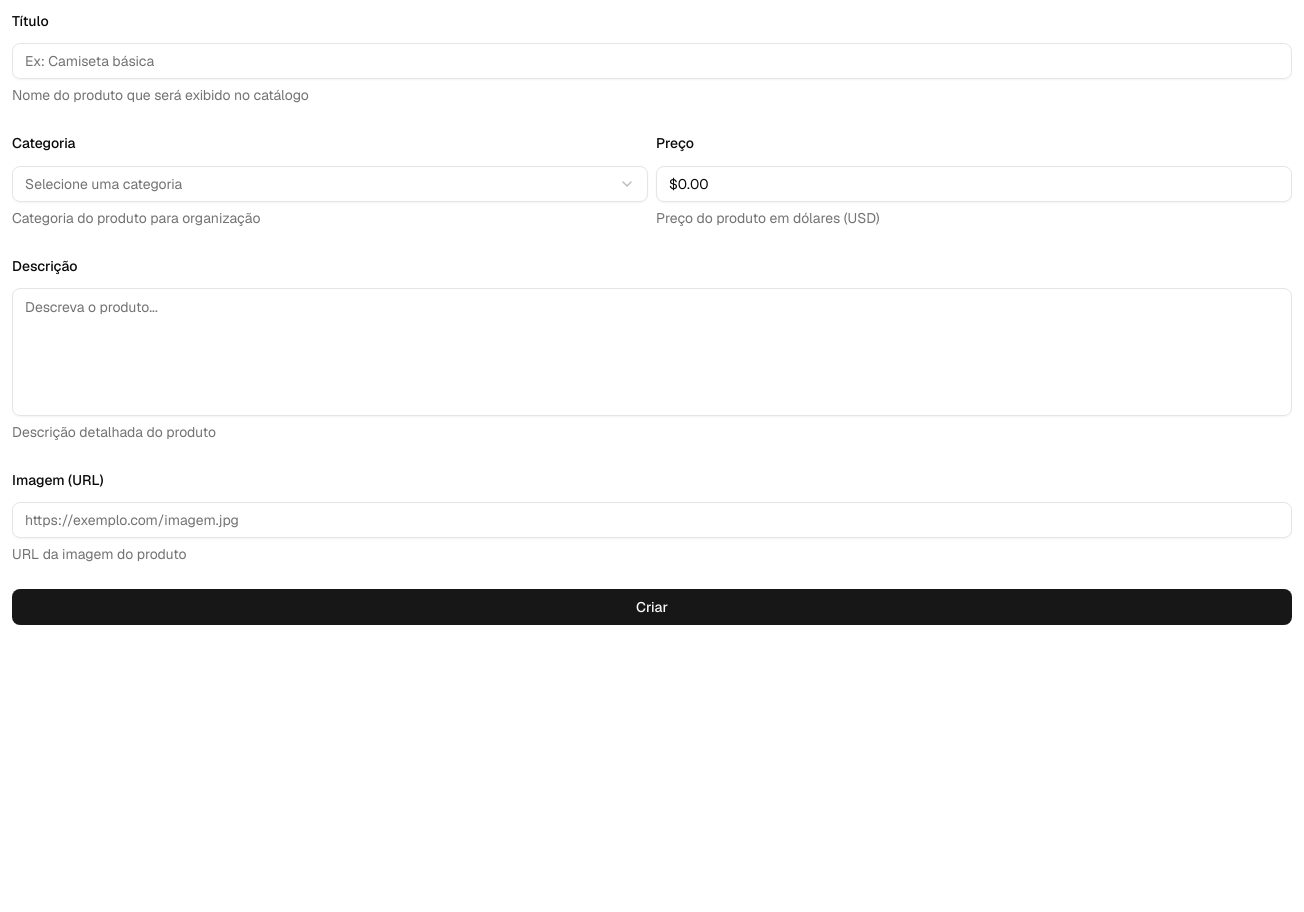
Test: ProductForm › Modo Criação › deve validar campos obrigatórios
Click the button "Criar". click: (652, 607)
box: left=12, top=589, right=1292, bottom=625
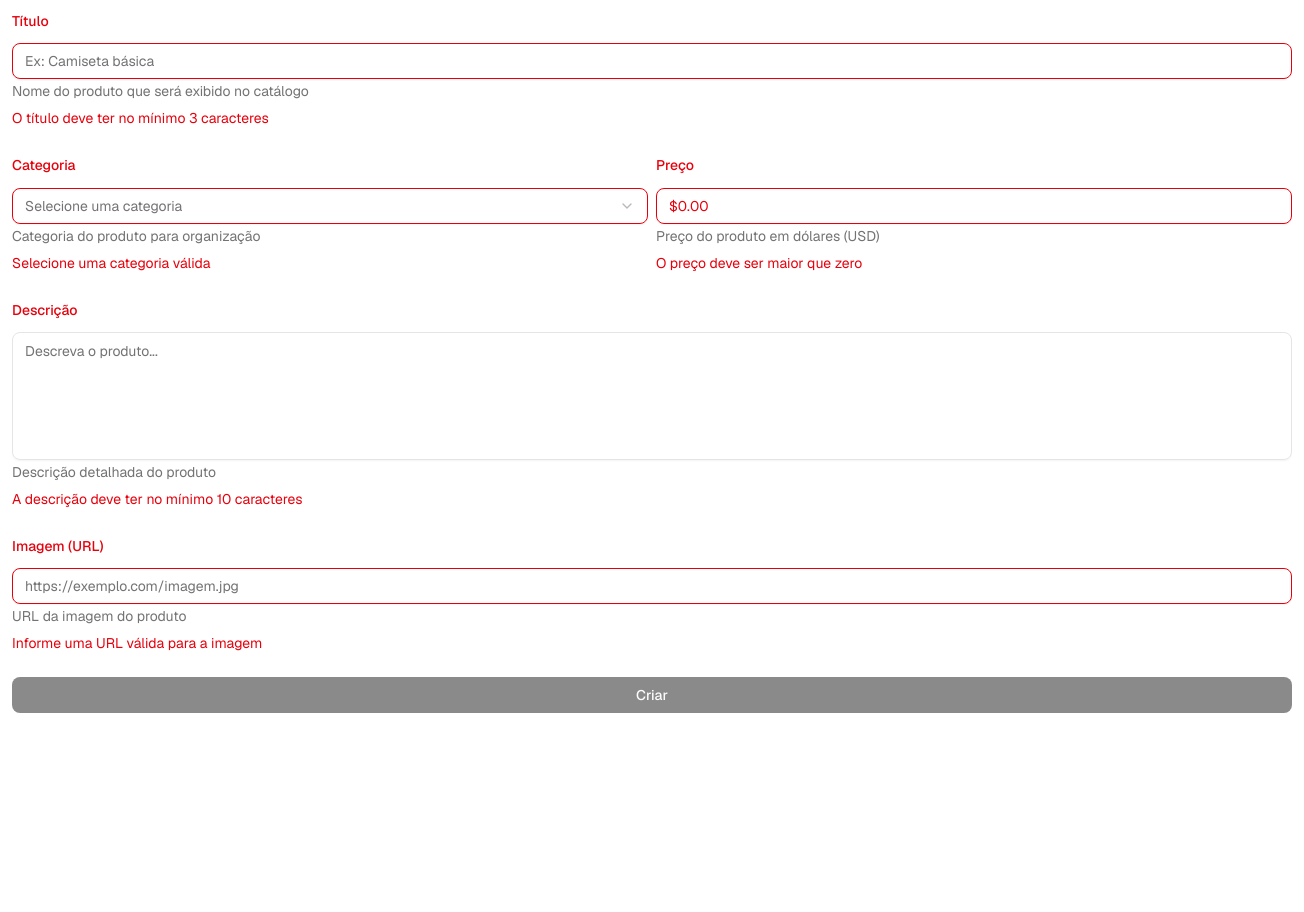
Check: the text "O título deve ter no mínimo 3 caracteres" is shown, box left=12, top=109, right=269, bottom=127
